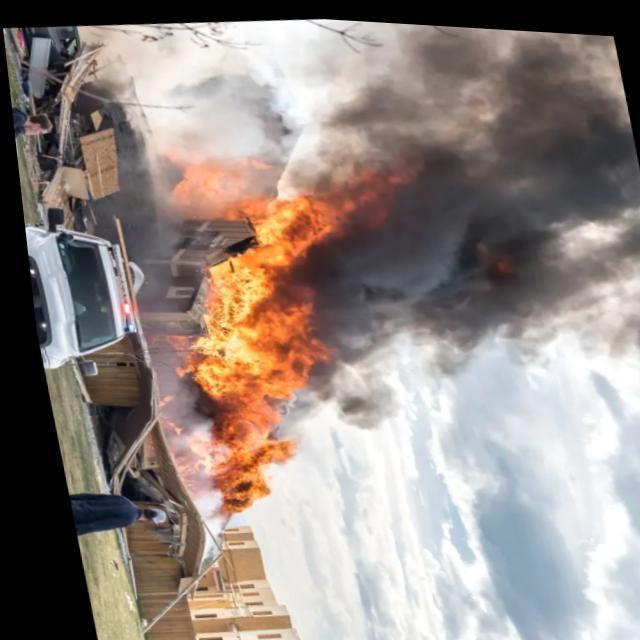fire: (157, 158, 331, 414), (154, 389, 314, 526)
